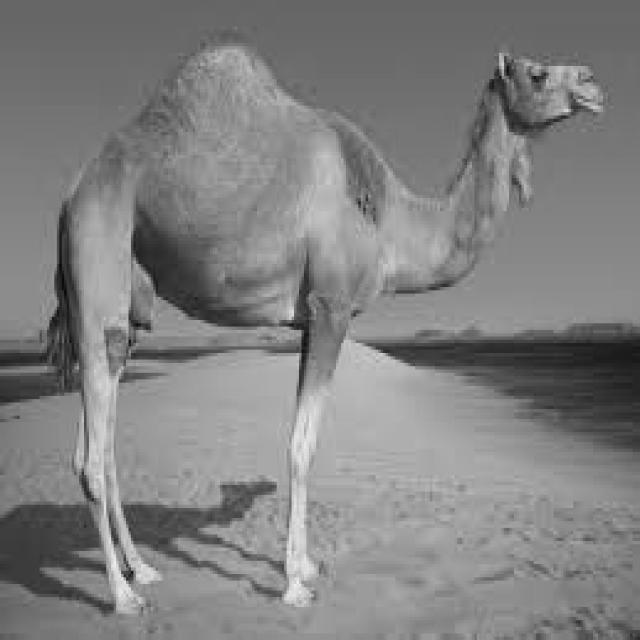Camel: (42, 26, 603, 617)
